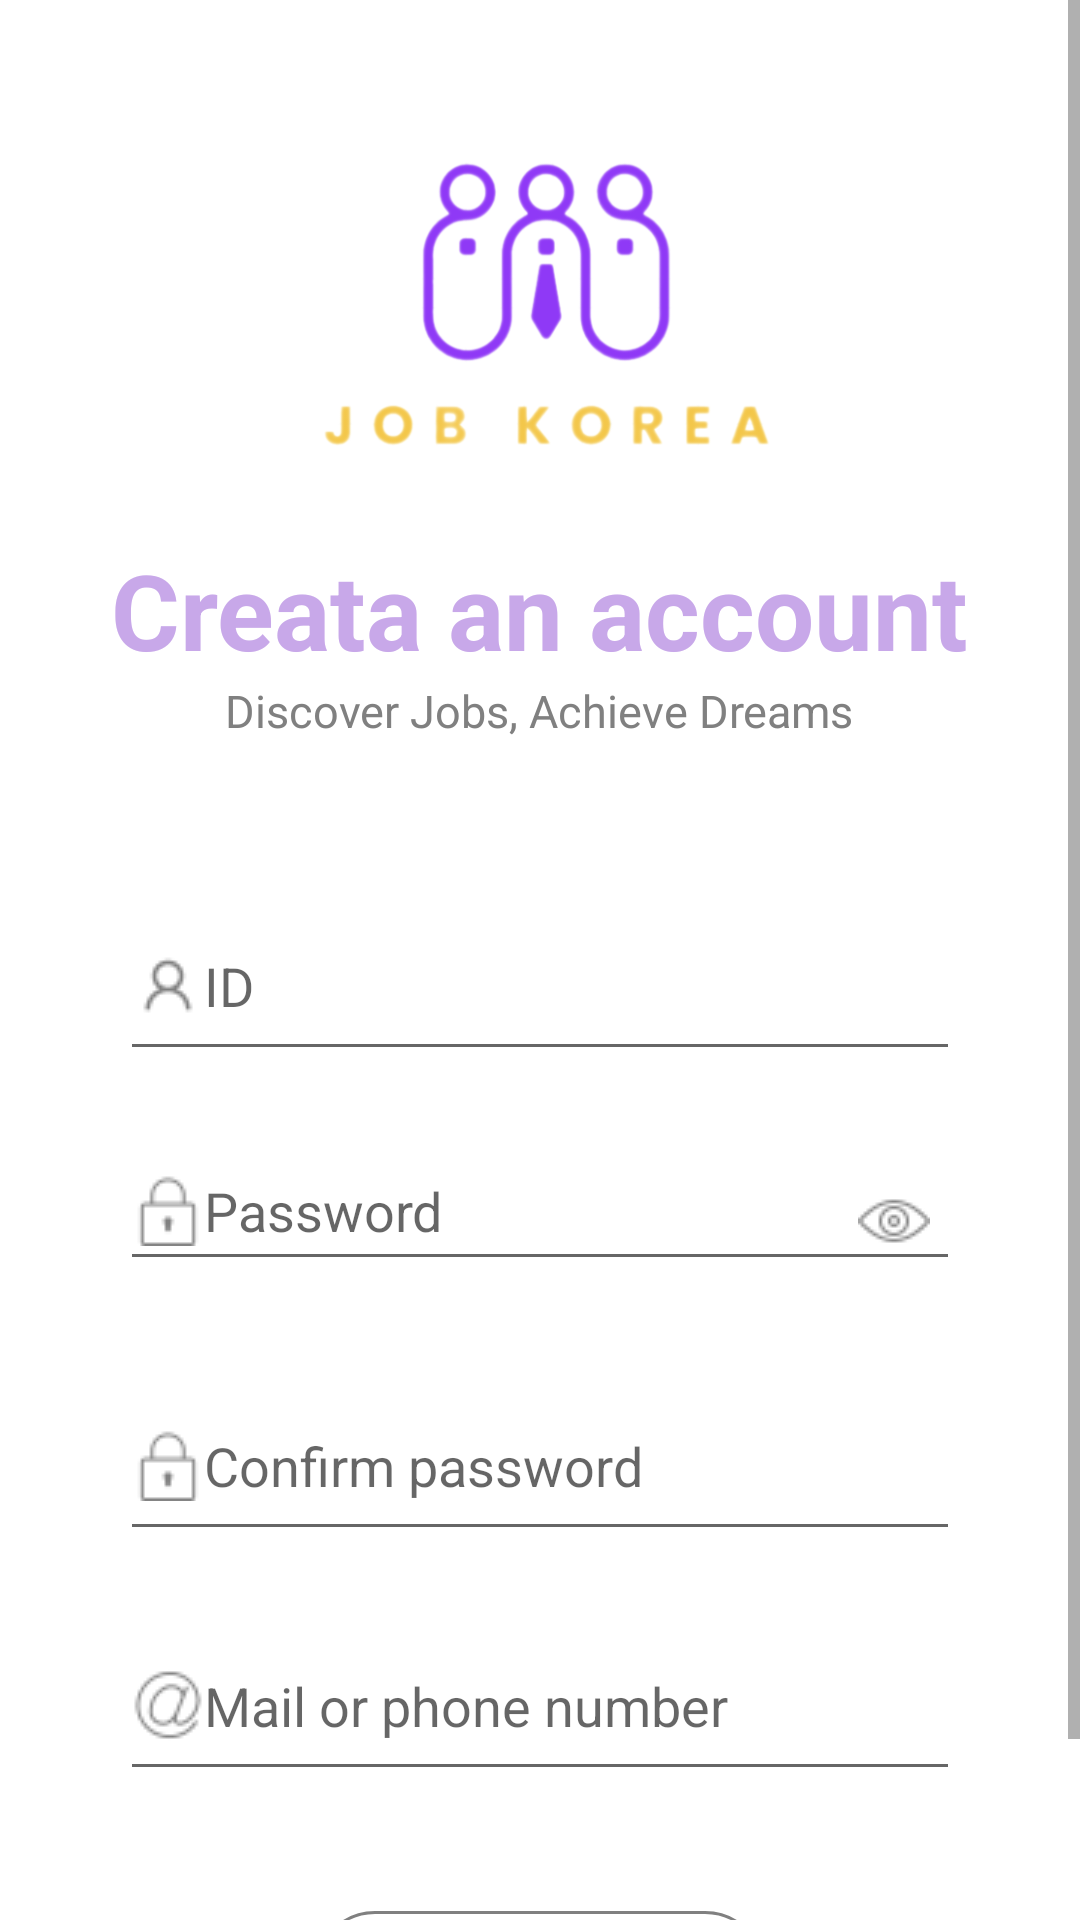

Screen size 1080px x 1920px. Icon name, then its center in pixels as [x,y]:
eye: [894,1221]
